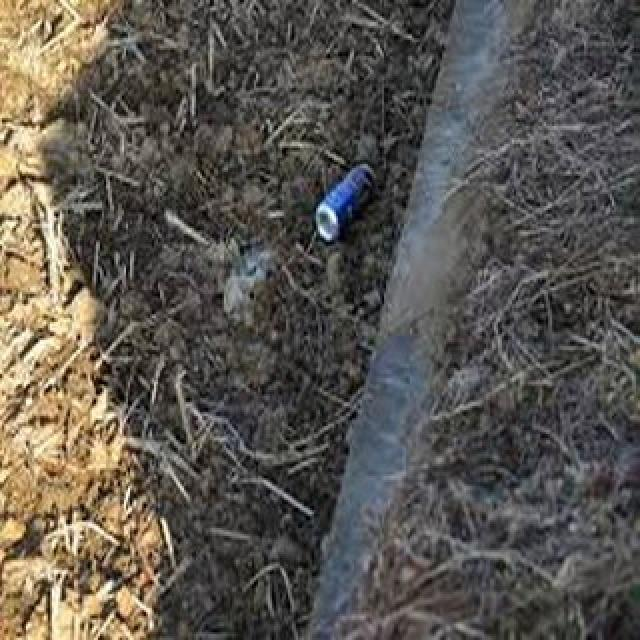can: (316, 163, 380, 241)
